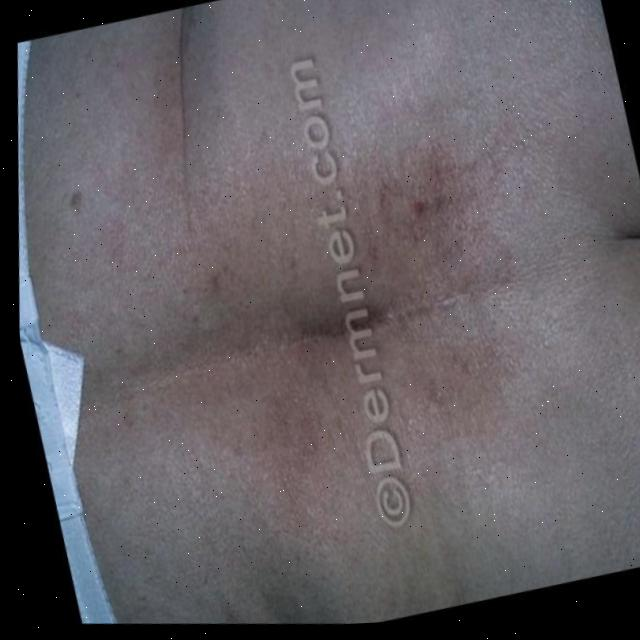Eczema: (196, 195, 472, 437)
